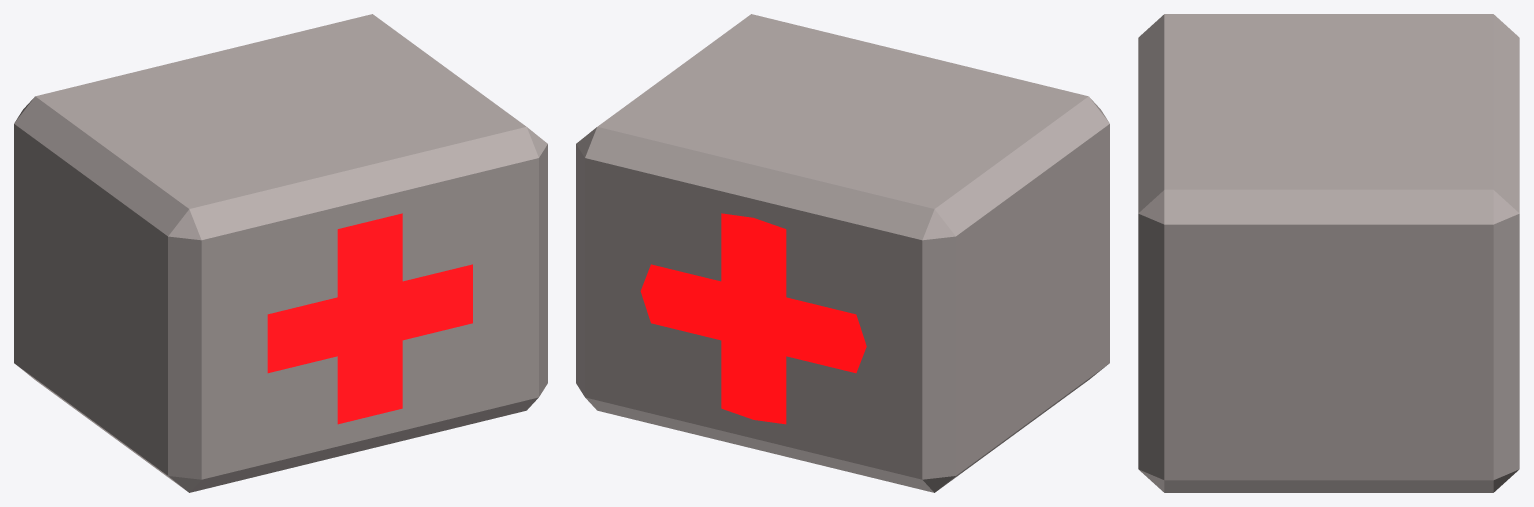
Rendered from apteka.fbx.
3 renders of one model, left to right at view 1: azimuth 30°, elevation 25°; view 2: azimuth 150°, elevation 25°; view 3: azimuth 270°, elevation 25°, orthographic. The views are drawn at different scales.
Visible parts, largest first — view 1: Cube.019; view 2: Cube.019; view 3: Cube.019.
Boxes of the visible parts, <box> form: Cube.019: <box>14,14,547,492</box>; Cube.019: <box>576,14,1109,492</box>; Cube.019: <box>1138,14,1519,492</box>.
Size of the model in its own units: 1.4 by 1 by 1.14.
